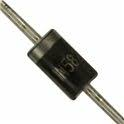diode: (7, 11, 113, 115)
